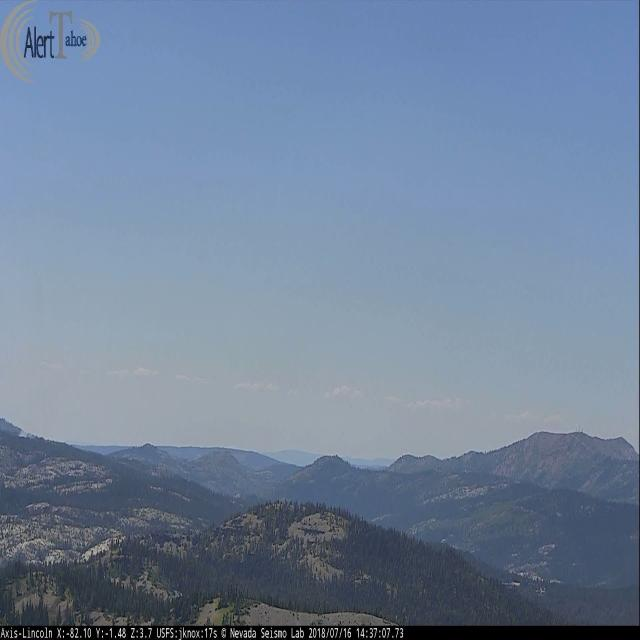smoke: (18, 428, 28, 438)
